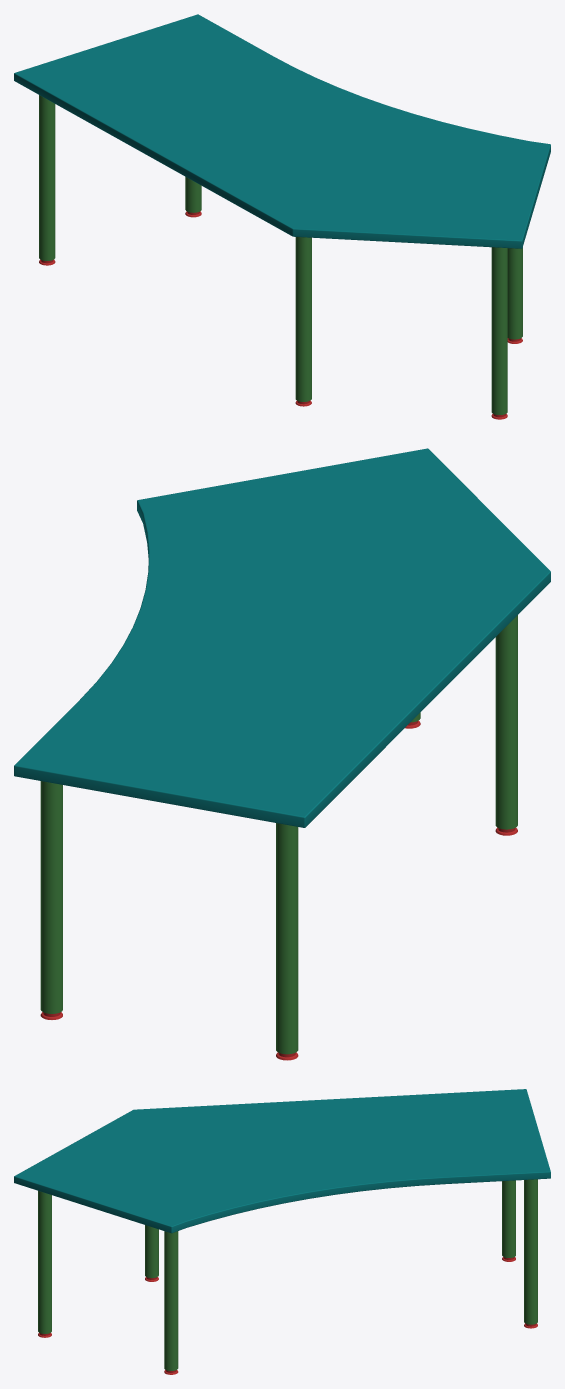
Rendered from SM_Table_01.fbx.
3 renders of one model, top to bottom at view 1: azimuth 30°, elevation 25°; view 2: azimuth 150°, elevation 25°; view 3: azimuth 270°, elevation 25°, orthographic. The views are drawn at different scales.
Parts seen in each view (by area): view 1: SM_Table_01; view 2: SM_Table_01; view 3: SM_Table_01.
Boxes of the visible parts, x1=… form: SM_Table_01: x1=14, y1=14, x2=550, y2=419; SM_Table_01: x1=14, y1=448, x2=550, y2=1060; SM_Table_01: x1=14, y1=1089, x2=550, y2=1374.
Size of the model in its own units: 132 by 71.5 by 217.
